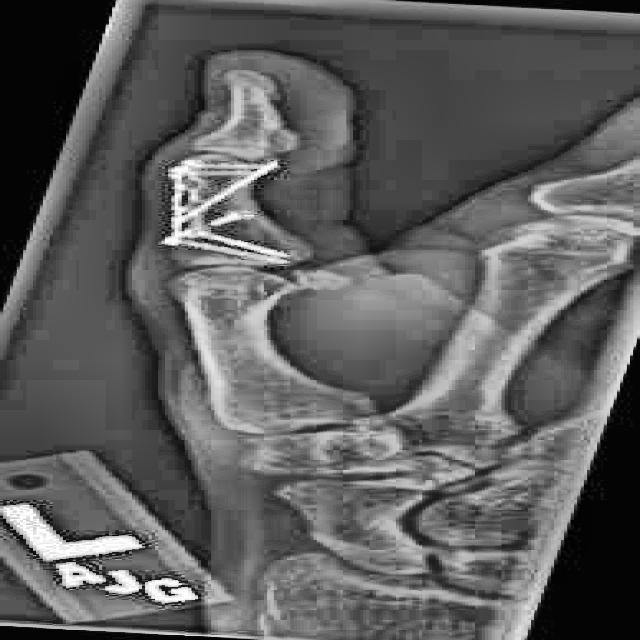fingers positive: (119, 166, 313, 267)
